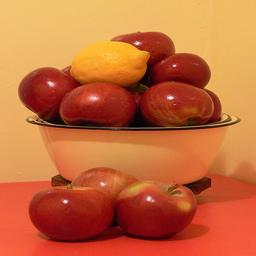apple: (27, 185, 114, 239), (115, 180, 197, 237), (16, 67, 90, 123), (60, 82, 138, 127), (140, 81, 213, 128), (148, 52, 211, 88)
